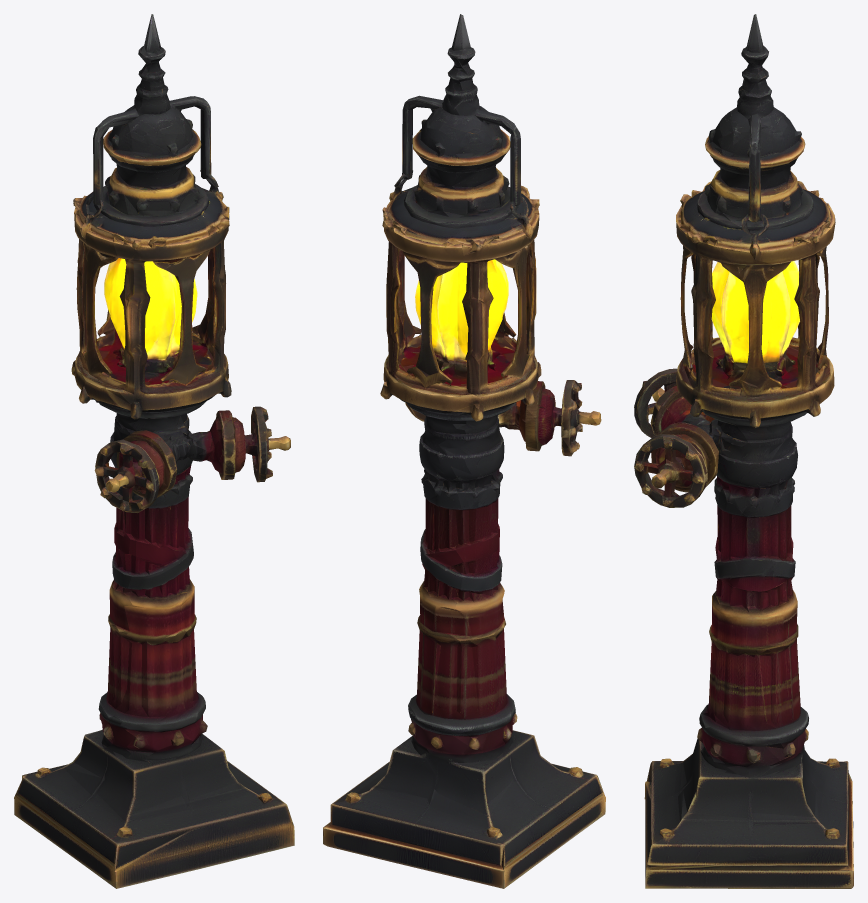
Rendered from lantern_post.glb.
3 renders of one model, left to right at view 1: azimuth 30°, elevation 25°; view 2: azimuth 150°, elevation 25°; view 3: azimuth 270°, elevation 25°, orthographic. The views are drawn at different scales.
Size of the model in its own units: 0.4468 by 1.9 by 0.4552.
1 material, 1 textured.
